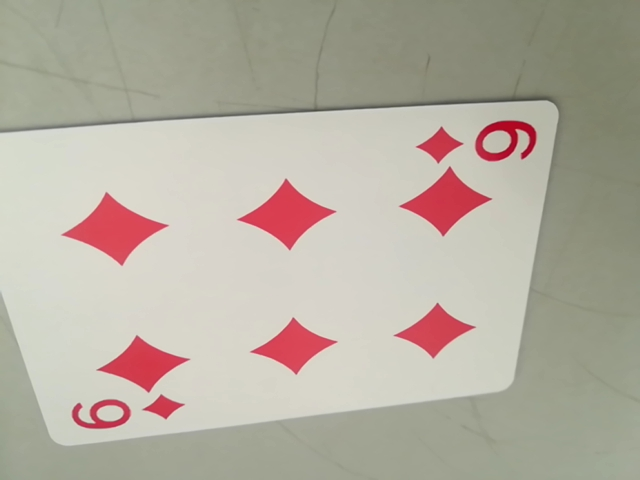fk 6: (415, 115, 540, 170), (62, 389, 189, 439)
